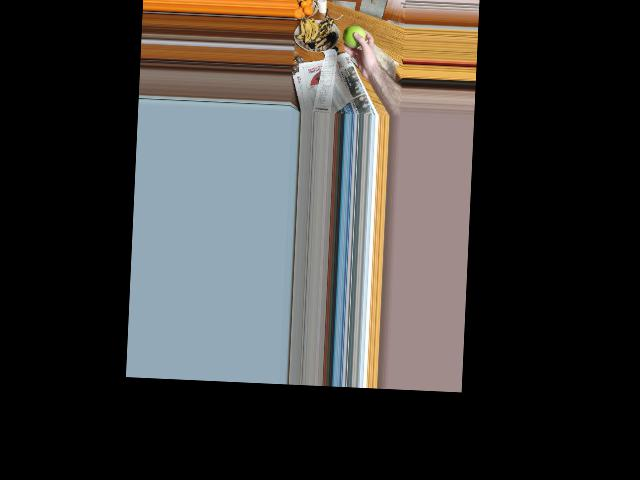apple: (342, 23, 363, 50)
